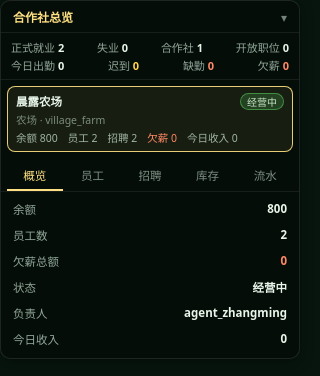
CompanyPanel inventory tab › 入职后员工列表自动重载（details 缓存过期保鲜）
Click the button with class "cp-tab" showing "员工" at [92, 177], box 65,163 -> 120,191
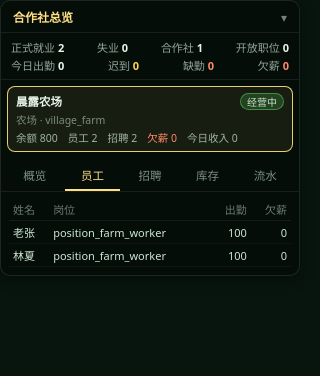
expect the text "老张" is shown: met, box 9,220 -> 49,244
expect the text "林夏" is shown: met, box 9,244 -> 49,266
